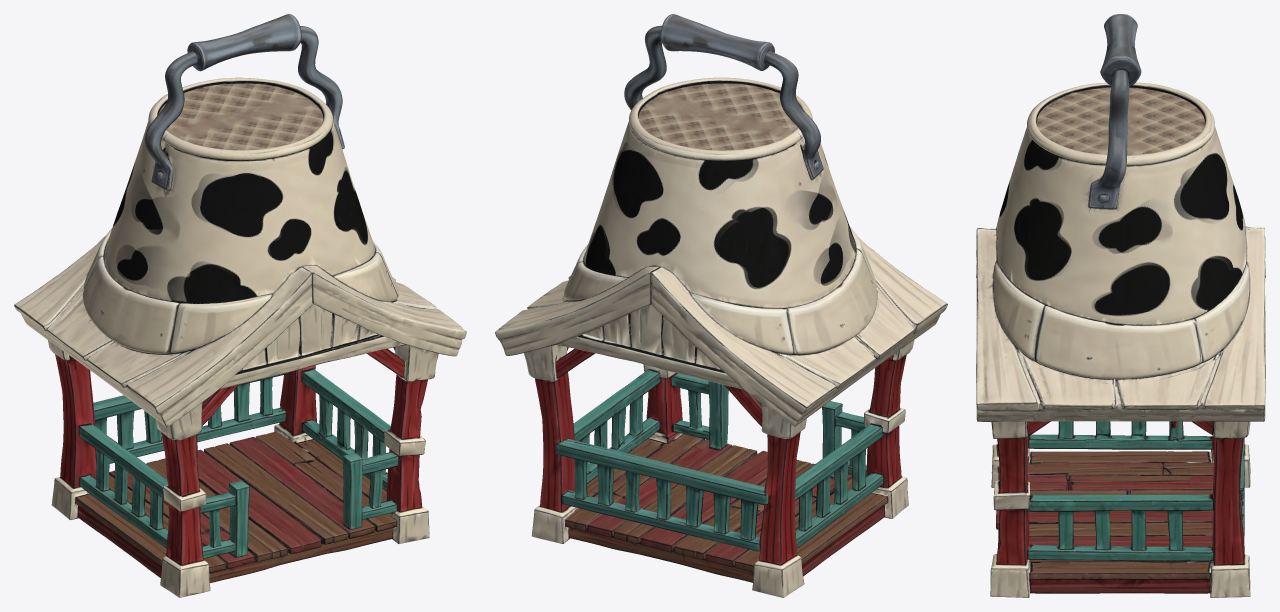
Rendered from FF_Gazebo.glb.
The picture shows the model from 3 angles, left to right: view 1: azimuth 30°, elevation 25°; view 2: azimuth 150°, elevation 25°; view 3: azimuth 270°, elevation 25°; orthographic projection. The views are drawn at different scales.
Size of the model in its own units: 1.27 by 1.9 by 0.9922.
1 material, 1 textured.
